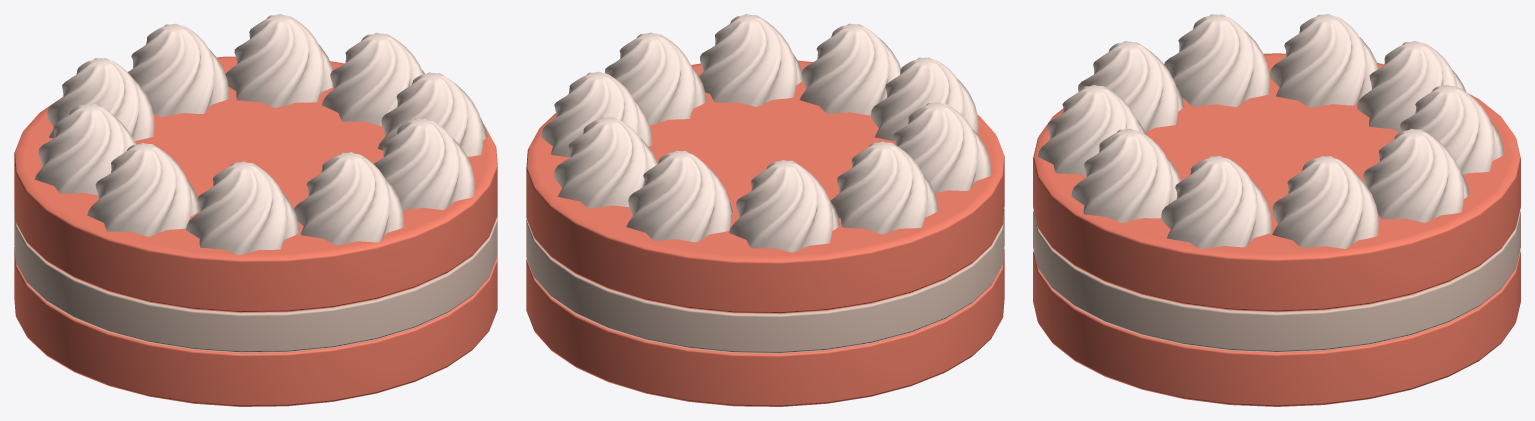
File: SM_fruit_cake.fbx
3 renders of one model, left to right at view 1: azimuth 30°, elevation 25°; view 2: azimuth 150°, elevation 25°; view 3: azimuth 270°, elevation 25°, orthographic.
Visible parts, largest first — view 1: SM_fruit_cake; view 2: SM_fruit_cake; view 3: SM_fruit_cake.
Boxes of the visible parts, <box> form: SM_fruit_cake: <box>14,14,497,406</box>; SM_fruit_cake: <box>526,14,1004,406</box>; SM_fruit_cake: <box>1033,14,1520,406</box>.
Size of the model in its own units: 31.53 by 15.55 by 31.53.
Materials: 1 (1 with a texture image).
